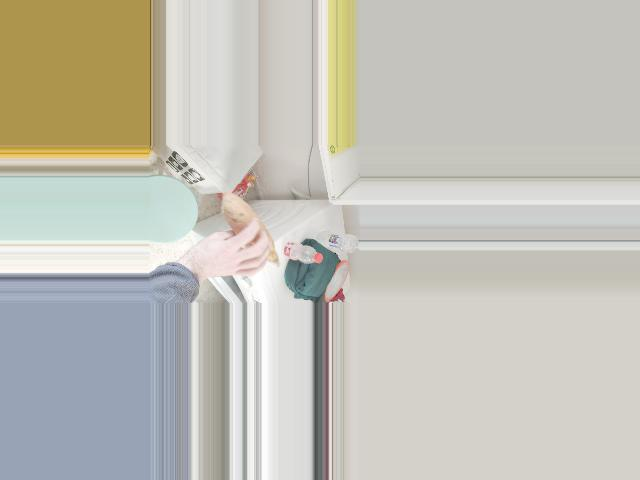sweet_potato: (223, 198, 277, 272)
